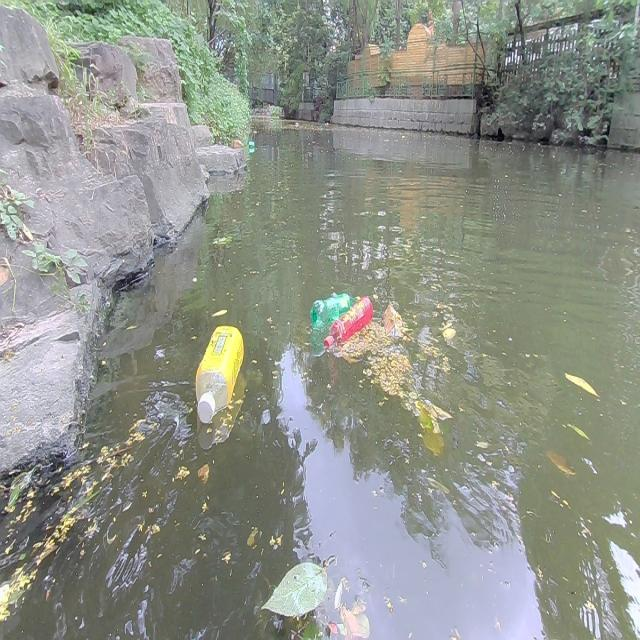bottle: (194, 323, 244, 424), (323, 297, 373, 349), (310, 290, 352, 327), (233, 138, 243, 148), (247, 138, 253, 146)
